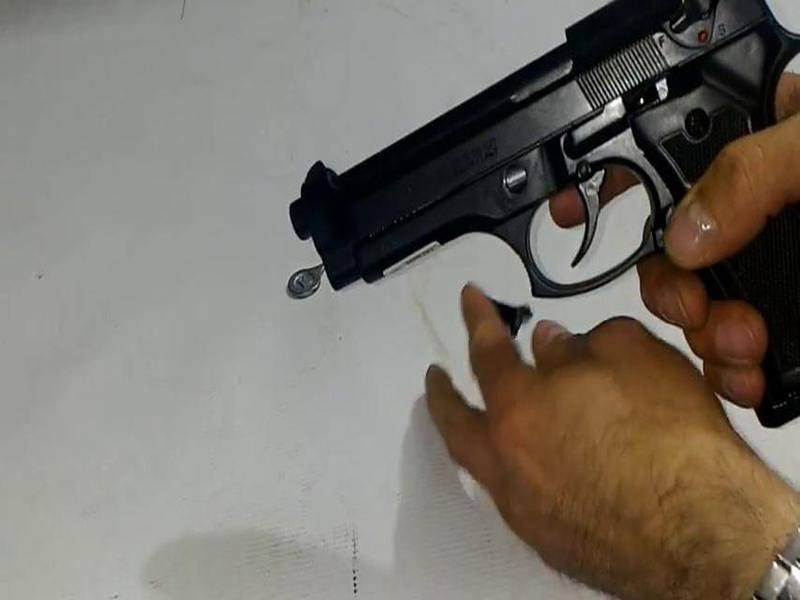Pistola: (286, 6, 800, 436)
